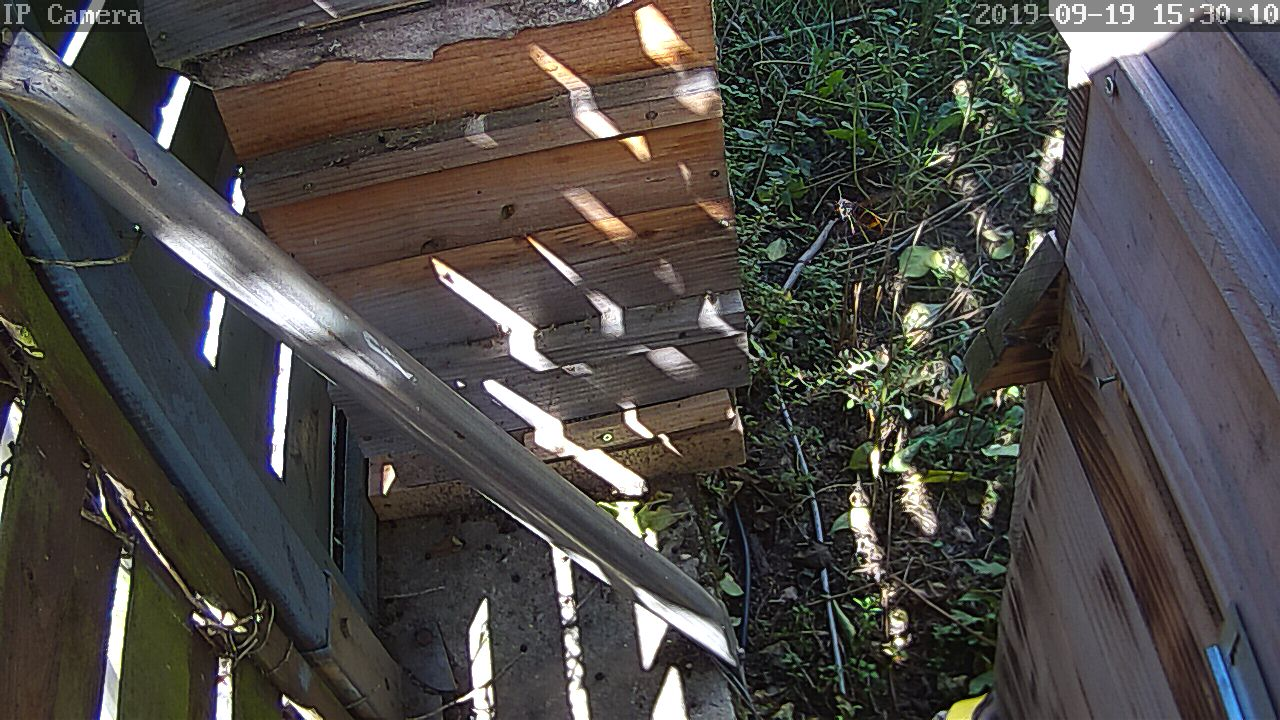hornet: (23, 0, 1250, 720)
